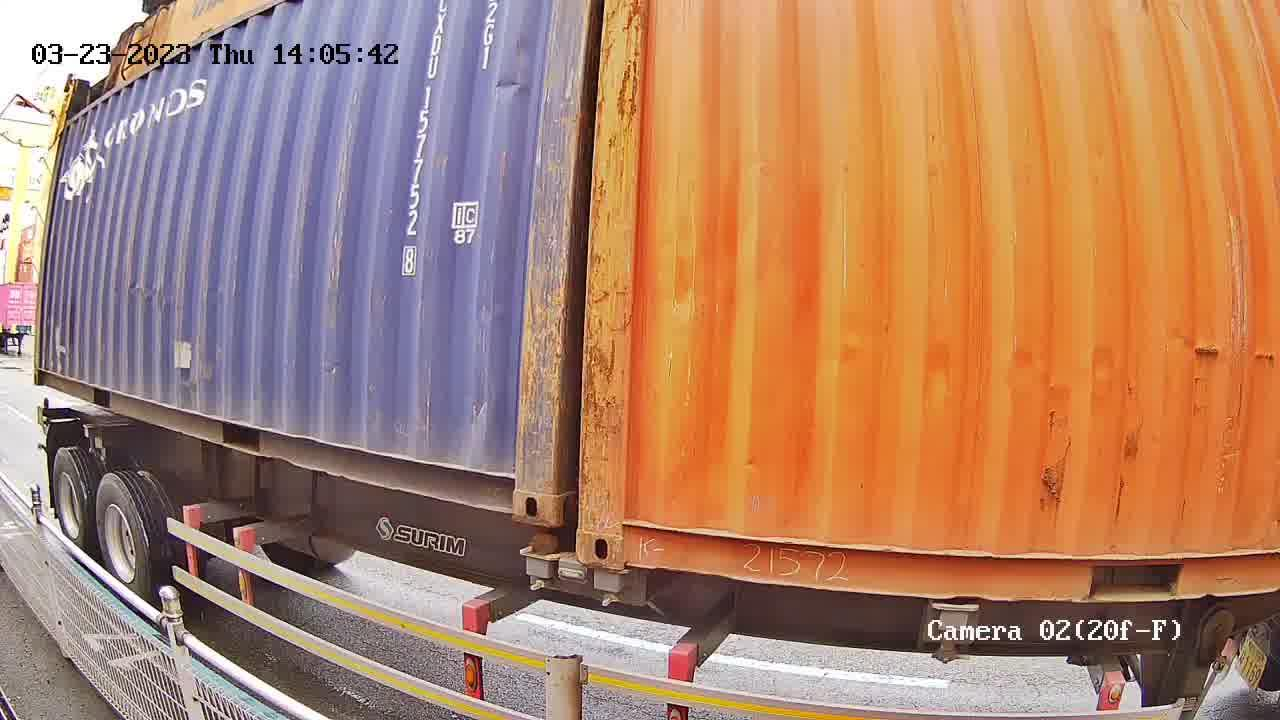Cone: (522, 534, 557, 592), (590, 568, 625, 607)
Hole_L: (580, 484, 666, 571)
Hole_R: (475, 440, 554, 527)
Tire: (95, 473, 157, 606), (53, 449, 93, 556)
